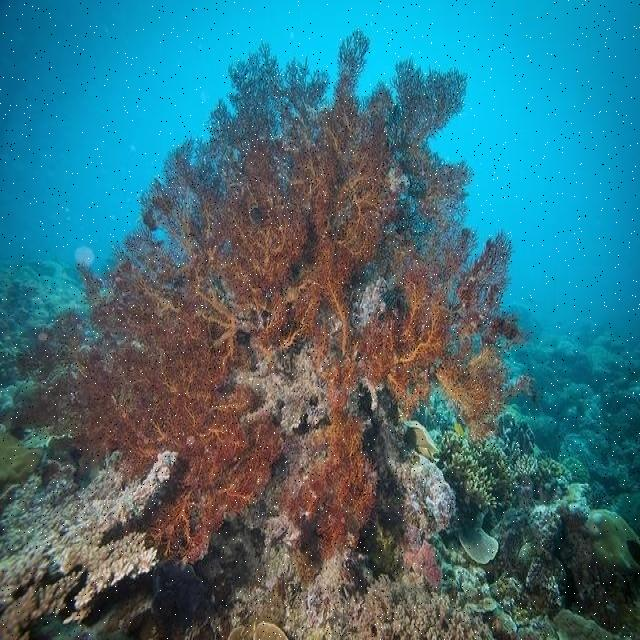reefs: (6, 30, 538, 585)
